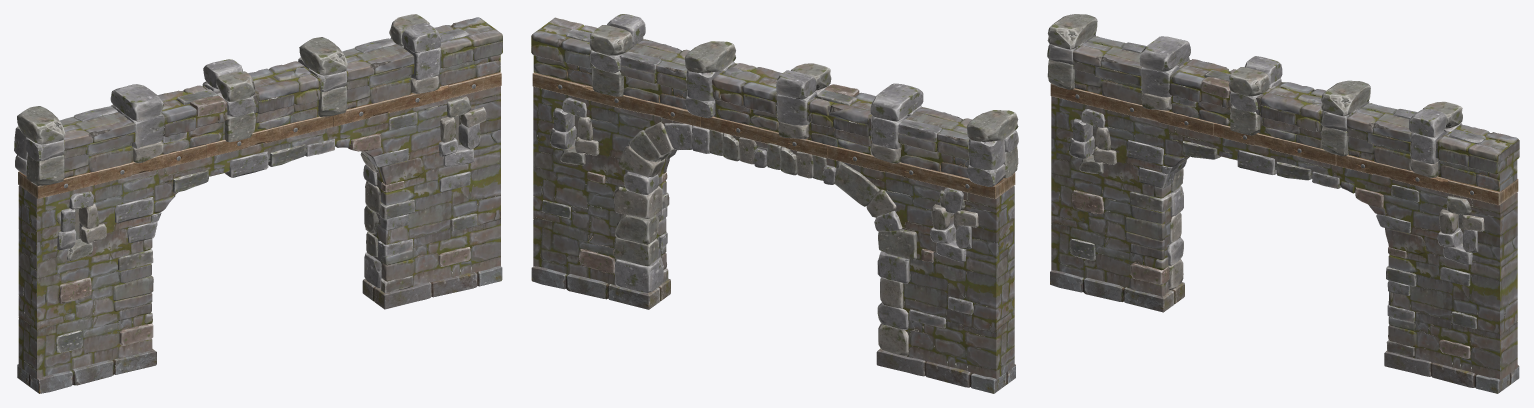
3 views of the same model, side by side, from view 1: azimuth 30°, elevation 25°; view 2: azimuth 150°, elevation 25°; view 3: azimuth 330°, elevation 25° (orthographic). The views are drawn at different scales.
Visible parts, largest first — view 1: SM_Castle_Wall_Door_11x6_01_v1_LOD0; view 2: SM_Castle_Wall_Door_11x6_01_v1_LOD0; view 3: SM_Castle_Wall_Door_11x6_01_v1_LOD0.
Boxes of the visible parts, bbox=[...] form: SM_Castle_Wall_Door_11x6_01_v1_LOD0: bbox=[14, 14, 502, 393]; SM_Castle_Wall_Door_11x6_01_v1_LOD0: bbox=[531, 14, 1018, 393]; SM_Castle_Wall_Door_11x6_01_v1_LOD0: bbox=[1047, 14, 1519, 393].
Bounding box in the file's own units: 11.05 × 6.06 × 1.15.
Materials: 6 (6 with a texture image).
